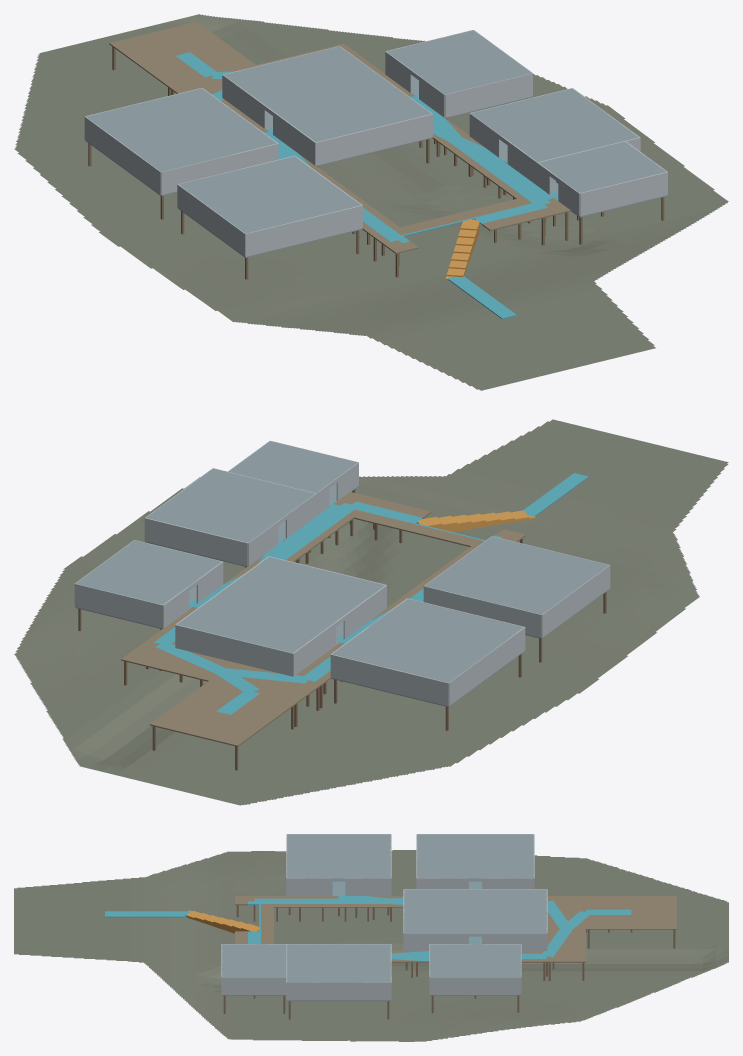
The model's file is supported-stairs.glb.
The picture shows the model from 3 angles, top to bottom: view 1: azimuth 30°, elevation 25°; view 2: azimuth 150°, elevation 25°; view 3: azimuth 270°, elevation 25°; orthographic projection. The views are drawn at different scales.
Parts seen in each view (by area): view 1: Saved editor macroterrain WLD-11, Ceiling cap warehouse, Ceiling cap chapel, Ceiling cap house-a, Ceiling cap house-b, Ceiling cap shack, Ceiling cap pump, Wall warehouse S, Wall house-a S, Wall pump S, Wall chapel S, Wall shack S (+15 smaller); view 2: Saved editor macroterrain WLD-11, Ceiling cap warehouse, Ceiling cap chapel, Ceiling cap house-a, Ceiling cap house-b, Ceiling cap shack, Ceiling cap pump, Wall chapel N, Wall warehouse N, Wall house-b N, Wall shack N, Wall house-a N (+16 smaller); view 3: Saved editor macroterrain WLD-11, Ceiling cap warehouse, Ceiling cap chapel, Ceiling cap house-a, Ceiling cap house-b, Ceiling cap shack, Ceiling cap pump, Wall house-b E, Wall shack E, Wall pump E, Wall warehouse E, Wall warehouse E.001 (+12 smaller).
Part boxes in pixels (x1=…): Saved editor macroterrain WLD-11: x1=14, y1=14, x2=728, y2=390; Ceiling cap warehouse: x1=223, y1=46, x2=431, y2=141; Ceiling cap chapel: x1=85, y1=88, x2=276, y2=171; Ceiling cap house-a: x1=179, y1=156, x2=361, y2=233; Ceiling cap house-b: x1=471, y1=88, x2=638, y2=162; Ceiling cap shack: x1=386, y1=30, x2=531, y2=94; Ceiling cap pump: x1=538, y1=141, x2=666, y2=192; Wall warehouse S: x1=315, y1=114, x2=432, y2=165; Wall house-a S: x1=245, y1=205, x2=362, y2=256; Wall pump S: x1=580, y1=172, x2=667, y2=216; Wall chapel S: x1=161, y1=143, x2=278, y2=195; Wall shack S: x1=445, y1=73, x2=532, y2=117; Saved editor macroterrain WLD-11: x1=14, y1=419, x2=728, y2=805; Ceiling cap warehouse: x1=176, y1=557, x2=384, y2=652; Ceiling cap chapel: x1=332, y1=598, x2=523, y2=682; Ceiling cap house-a: x1=424, y1=536, x2=609, y2=614; Ceiling cap house-b: x1=146, y1=468, x2=314, y2=542; Ceiling cap shack: x1=75, y1=540, x2=221, y2=604; Ceiling cap pump: x1=228, y1=441, x2=357, y2=492; Wall chapel N: x1=330, y1=654, x2=448, y2=706; Wall warehouse N: x1=175, y1=625, x2=293, y2=676; Wall house-b N: x1=145, y1=518, x2=247, y2=566; Wall shack N: x1=75, y1=583, x2=163, y2=628; Wall house-a N: x1=424, y1=586, x2=541, y2=637; Saved editor macroterrain WLD-11: x1=14, y1=850, x2=728, y2=1041; Ceiling cap warehouse: x1=404, y1=889, x2=546, y2=932; Ceiling cap chapel: x1=417, y1=834, x2=533, y2=878; Ceiling cap house-a: x1=287, y1=834, x2=390, y2=878; Ceiling cap house-b: x1=287, y1=944, x2=390, y2=982; Ceiling cap shack: x1=430, y1=944, x2=520, y2=976; Ceiling cap pump: x1=222, y1=944, x2=286, y2=976; Wall house-b E: x1=287, y1=982, x2=390, y2=1000; Wall shack E: x1=430, y1=977, x2=520, y2=994; Wall pump E: x1=222, y1=977, x2=286, y2=994; Wall warehouse E: x1=482, y1=933, x2=546, y2=950; Wall warehouse E.001: x1=404, y1=933, x2=468, y2=950.
Size of the model in its own units: 70 by 7.47 by 110.
Materials: 19 (10 with a texture image).
